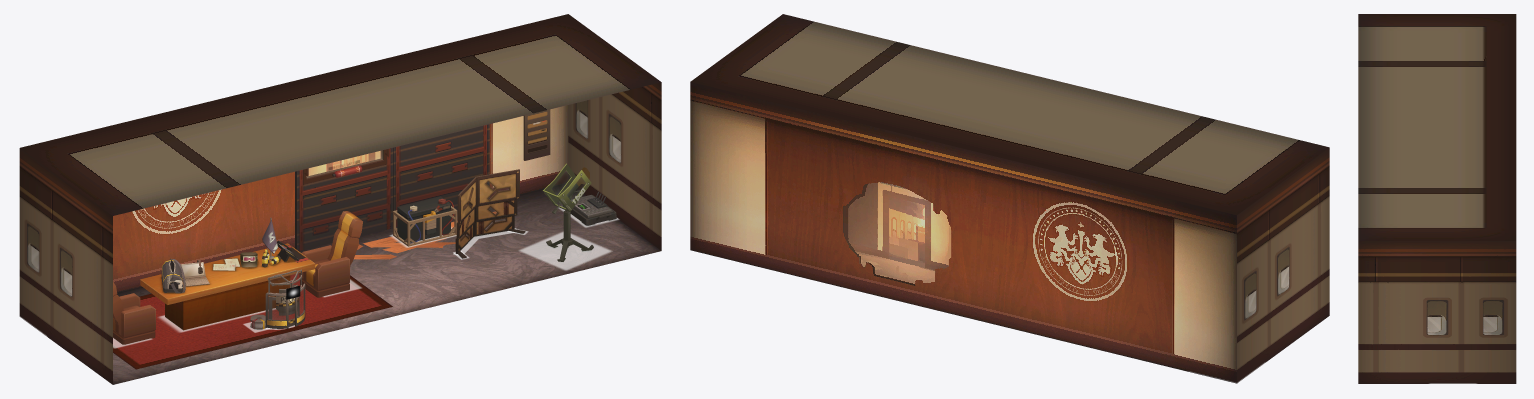
3 views of the same model, side by side, from view 1: azimuth 30°, elevation 25°; view 2: azimuth 150°, elevation 25°; view 3: azimuth 270°, elevation 25° (orthographic). The views are drawn at different scales.
Visible parts, largest first — view 1: ROOM_room, ROOM_floor, furni_R6_desk_01, furni_R6_carpet_01, furni_R6_blackMirrors_01, furni_R6_reinforceWall_01, furni_R6_deployableShield_01, furni_R6_seat_R_01, furni_R6_shockWire_01, furni_R6_seat_L_01, furni_R6_CCEShield_01, furni_R6_shumikhaLauncher_01 (+7 smaller); view 2: ROOM_room, ROOM_LDoor; view 3: ROOM_room, ROOM_RDoor.
Boxes of the visible parts, box(x1,y1,x2,y2) form: ROOM_room: box(19, 14, 661, 384); ROOM_floor: box(113, 183, 660, 384); furni_R6_desk_01: box(140, 217, 315, 330); furni_R6_carpet_01: box(113, 273, 392, 369); furni_R6_blackMirrors_01: box(295, 148, 392, 250); furni_R6_reinforceWall_01: box(393, 124, 489, 226); furni_R6_deployableShield_01: box(455, 169, 525, 259); furni_R6_seat_R_01: box(299, 211, 362, 297); furni_R6_shockWire_01: box(393, 196, 457, 246); furni_R6_seat_L_01: box(113, 282, 155, 344); furni_R6_CCEShield_01: box(250, 269, 305, 329); furni_R6_shumikhaLauncher_01: box(542, 163, 593, 262); ROOM_room: box(690, 14, 1329, 383); ROOM_LDoor: box(1297, 249, 1315, 339); ROOM_room: box(1358, 14, 1516, 383); ROOM_RDoor: box(1381, 319, 1413, 383).
Bounding box in the file's own units: 7.58 × 2.2 × 2.25.
Materials: 8 (8 with a texture image).
